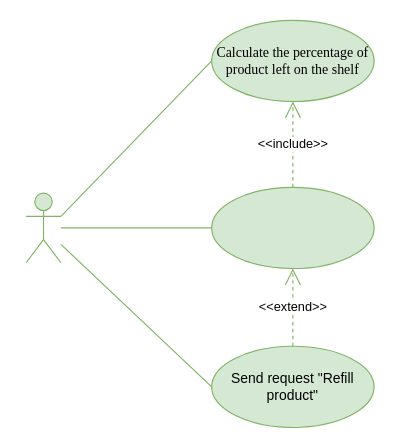
Some shapes in this 394 by 448 pixel diagram are drawn without their labels. Here are the shapes that lost their labels. From the top down, the centre of each, then its label:
At (43,227): "Sensor".
At (292,227): "Create list product run out".
